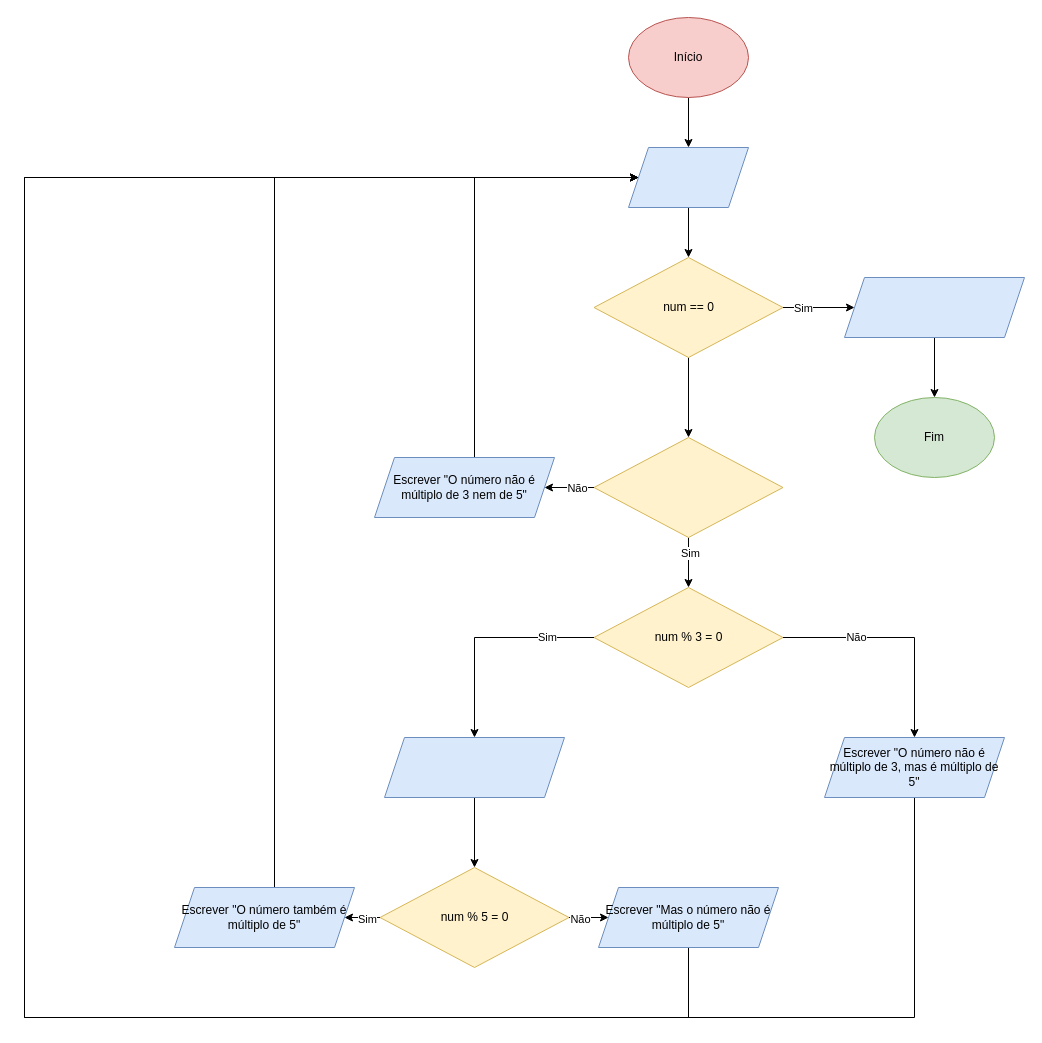
Image size: 1042x1043. Some labels were removed from this diagram. Each missing label, with the box of its shape:
Escrever "A roda na tua cabeça gira, mas o hamster está morto": (844, 276, 1024, 338)
Escrever "O número é múltiplo de 3 ": (384, 736, 564, 798)
Ler num: (628, 146, 748, 208)
num % 3 = 0 || num % 5 = 0: (593, 436, 783, 538)
